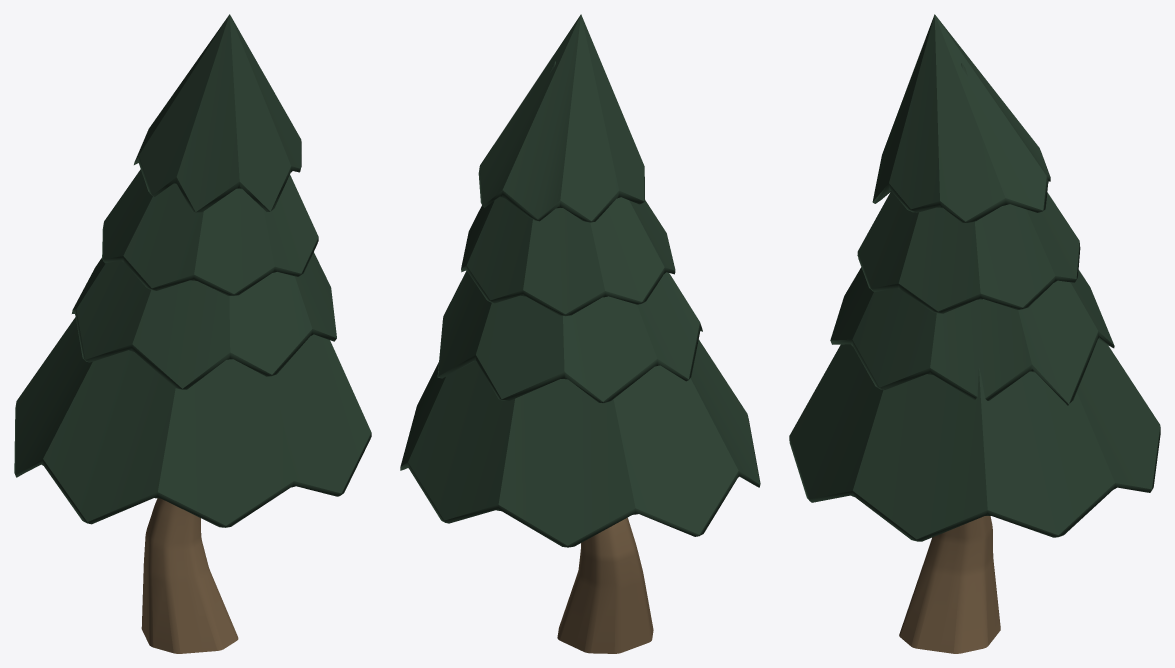
File: DipperPines.fbx
The picture shows the model from 3 angles, left to right: view 1: azimuth 30°, elevation 25°; view 2: azimuth 150°, elevation 25°; view 3: azimuth 270°, elevation 25°; orthographic projection. The views are drawn at different scales.
Visible parts, largest first — view 1: Tree.003; view 2: Tree.003; view 3: Tree.003.
Boxes of the visible parts, bbox=[...] form: Tree.003: bbox=[14, 14, 371, 653]; Tree.003: bbox=[400, 14, 760, 653]; Tree.003: bbox=[789, 14, 1160, 653].
Bounding box in the file's own units: 99.25 × 186 × 98.53.
